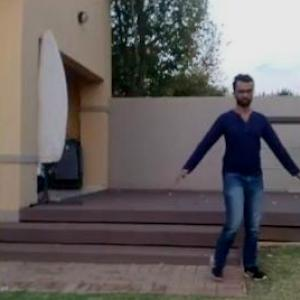land: (174, 86, 296, 289)
